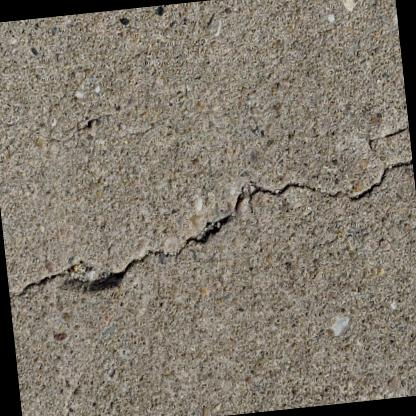crack: (8, 156, 412, 295)
